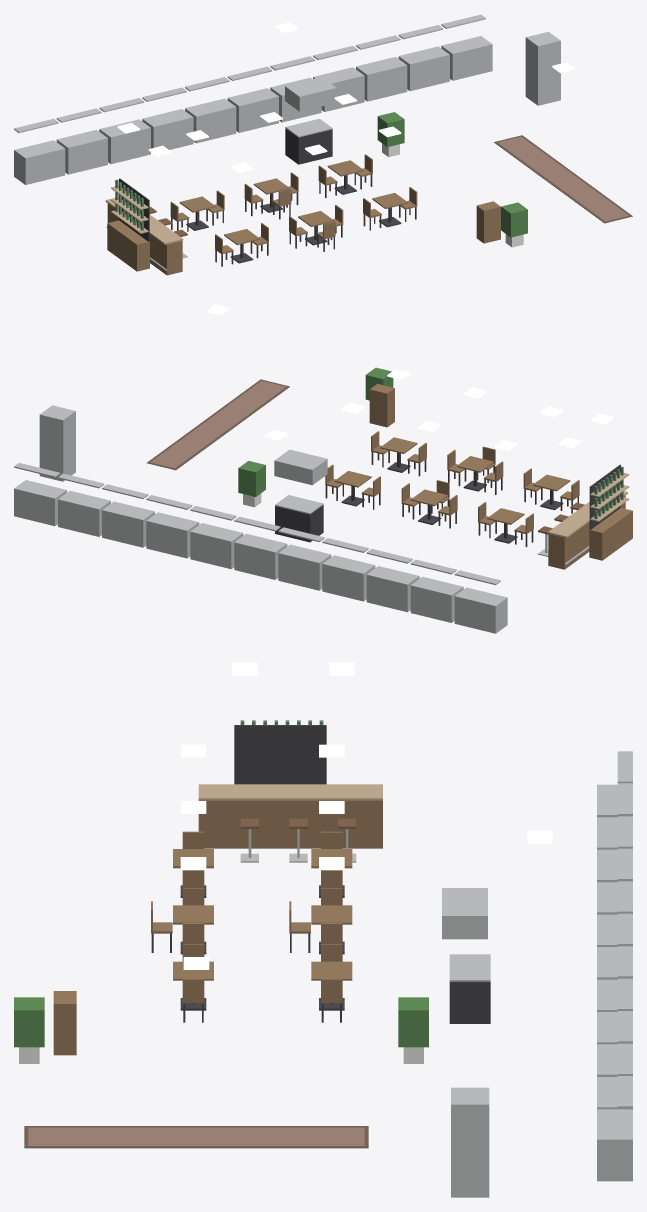
File: fine-s0.glb
3 renders of one model, top to bottom at view 1: azimuth 30°, elevation 25°; view 2: azimuth 150°, elevation 25°; view 3: azimuth 270°, elevation 25°, orthographic. The views are drawn at different scales.
Parts seen in each view (by area): view 1: soft-s0, back-bar.000, range.000, fridge.000, kitchen-counter.000, kitchen-counter.008, kitchen-counter.009, kitchen-counter.010, kitchen-counter.001, kitchen-counter.004, kitchen-counter.003, kitchen-counter.005 (+13 smaller); view 2: soft-s0, back-bar.000, range.000, fridge.000, kitchen-counter.000, kitchen-counter.003, kitchen-counter.001, kitchen-counter.002, kitchen-counter.004, kitchen-counter.005, kitchen-counter.007, kitchen-counter.006 (+13 smaller); view 3: soft-s0, back-bar.000, range.000, fridge.000, bar-counter.001, bar-counter.002, bar-counter.000, kitchen-counter.010, plant-medium.000, plant-medium.001, host-stand.000, kitchen-counter.000 (+13 smaller).
Part boxes in pixels (x1,y1,x2,y2): soft-s0: (494, 135, 632, 223); back-bar.000: (107, 178, 149, 271); range.000: (285, 77, 336, 164); fridge.000: (525, 31, 560, 105); kitchen-counter.000: (14, 118, 65, 184); kitchen-counter.008: (356, 35, 407, 101); kitchen-counter.009: (398, 25, 449, 91); kitchen-counter.010: (441, 14, 492, 80); kitchen-counter.001: (56, 108, 107, 174); kitchen-counter.004: (185, 77, 236, 143); kitchen-counter.003: (142, 87, 193, 149); kitchen-counter.005: (227, 66, 278, 132); soft-s0: (147, 379, 289, 470); back-bar.000: (589, 464, 632, 560); range.000: (274, 449, 327, 542); fridge.000: (39, 405, 75, 481); kitchen-counter.000: (454, 570, 507, 633); kitchen-counter.003: (322, 538, 375, 601); kitchen-counter.001: (410, 559, 463, 622); kitchen-counter.002: (366, 549, 419, 612); kitchen-counter.004: (278, 527, 331, 590); kitchen-counter.005: (234, 516, 287, 579); kitchen-counter.007: (146, 495, 199, 558); kitchen-counter.006: (190, 506, 243, 569); soft-s0: (24, 1126, 368, 1148); back-bar.000: (234, 720, 326, 784); range.000: (442, 888, 490, 1023); fridge.000: (451, 1087, 489, 1197); bar-counter.001: (260, 784, 321, 848); bar-counter.002: (198, 784, 259, 848); bar-counter.000: (321, 784, 382, 848); kitchen-counter.010: (597, 1076, 632, 1181); plant-medium.000: (14, 997, 44, 1063); plant-medium.001: (398, 997, 428, 1063); host-stand.000: (53, 991, 76, 1055); kitchen-counter.000: (597, 751, 632, 817).
Size of the model in its own units: 17.32 by 3.77 by 12.09.
